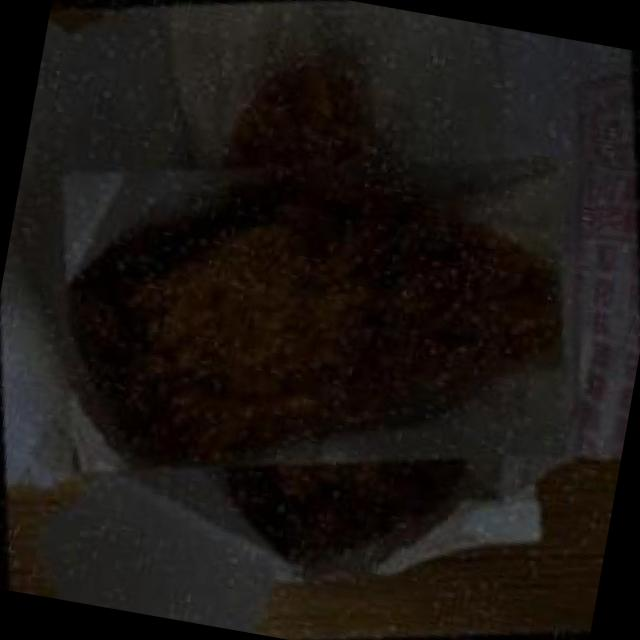fried_chicken: (38, 38, 592, 592)
